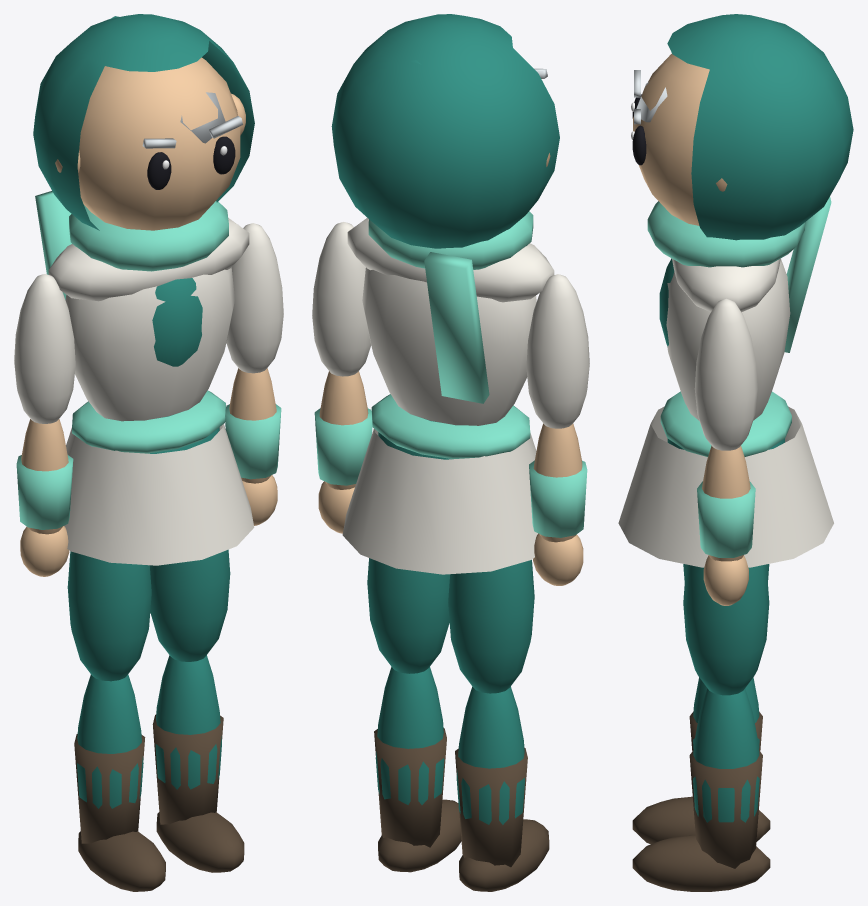
File: warden_air.glb
The picture shows the model from 3 angles, left to right: view 1: azimuth 30°, elevation 25°; view 2: azimuth 150°, elevation 25°; view 3: azimuth 270°, elevation 25°; orthographic projection. The views are drawn at different scales.
Parts seen in each view (by area): view 1: Head, Torso, Hips, LowerLegL, LowerLegR, UpperLegR, UpperArmR, LowerArmR, UpperLegL, UpperArmL, LowerArmL; view 2: Head, Torso, Hips, LowerLegR, LowerLegL, UpperLegR, UpperArmR, LowerArmR, UpperLegL, UpperArmL, LowerArmL; view 3: Head, Hips, Torso, LowerLegL, UpperLegL, UpperArmL, LowerArmL, LowerLegR.
Part boxes in pixels (x1,y1,x2,y2): Head: (33, 14, 254, 230); Torso: (35, 191, 249, 421); Hips: (64, 390, 254, 565); LowerLegL: (152, 655, 244, 872); LowerLegR: (74, 674, 165, 891); UpperLegR: (67, 551, 151, 681); UpperArmR: (14, 274, 75, 423); LowerArmR: (16, 419, 73, 576); UpperLegL: (149, 549, 230, 661); UpperArmL: (226, 223, 283, 373); LowerArmL: (225, 368, 281, 525); Head: (331, 14, 559, 248); Torso: (347, 211, 554, 425); Hips: (342, 394, 537, 574); LowerLegR: (455, 686, 549, 891); LowerLegL: (374, 667, 461, 872); UpperLegR: (448, 560, 534, 693); UpperArmR: (526, 274, 589, 428); LowerArmR: (529, 423, 587, 585); UpperLegL: (367, 558, 449, 673); UpperArmL: (312, 222, 371, 376); LowerArmL: (314, 371, 372, 533); Head: (631, 14, 853, 240); Hips: (618, 391, 833, 567); Torso: (647, 197, 831, 420); LowerLegL: (632, 688, 770, 891); UpperLegL: (683, 564, 769, 695); UpperArmL: (694, 298, 757, 450); LowerArmL: (697, 445, 755, 605); LowerLegR: (632, 677, 770, 844).
Size of the model in its own units: 0.6109 by 1.87 by 0.4712.
